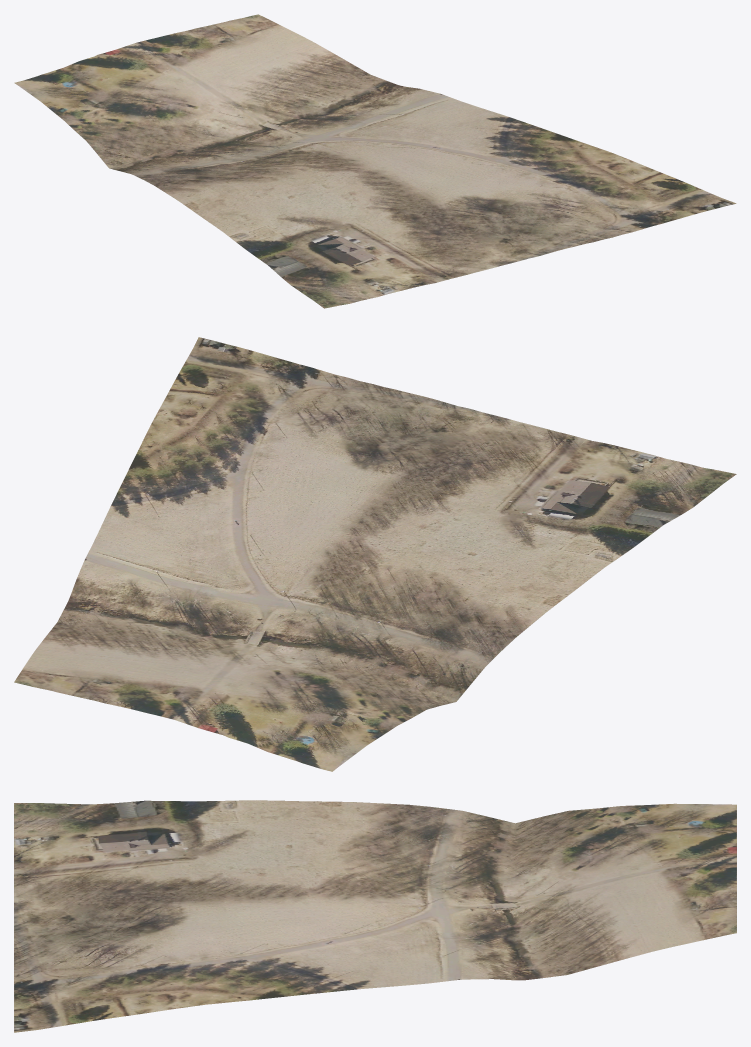
File: CM_Terrain_24491482_6821022.fbx
3 renders of one model, top to bottom at view 1: azimuth 30°, elevation 25°; view 2: azimuth 150°, elevation 25°; view 3: azimuth 270°, elevation 25°, orthographic. The views are drawn at different scales.
Visible parts, largest first — view 1: CM_Terrain_24491482_6821022_LOD0; view 2: CM_Terrain_24491482_6821022_LOD0; view 3: CM_Terrain_24491482_6821022_LOD0.
Boxes of the visible parts, x1,y1,x2,y2 form: CM_Terrain_24491482_6821022_LOD0: (14,14,736,308); CM_Terrain_24491482_6821022_LOD0: (14,337,736,771); CM_Terrain_24491482_6821022_LOD0: (14,800,736,1032).
Size of what is drawn, in the model's own units: 157 by 9.68 by 205.
